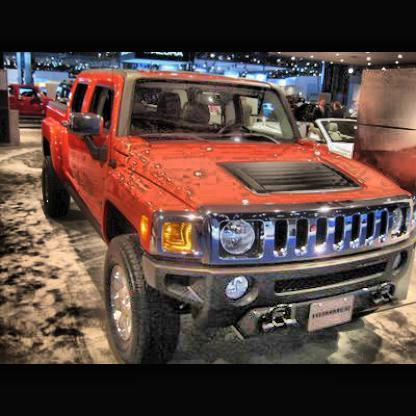HUMMER H3T Crew Cab 2010: (40, 64, 416, 365)
